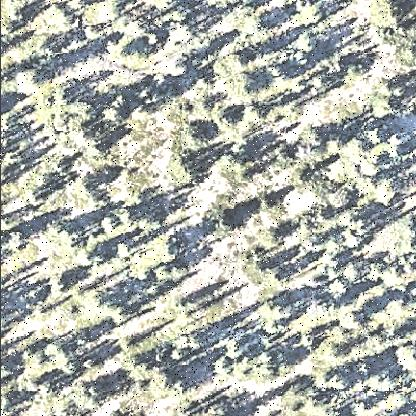tree-top: (179, 156, 241, 190), (53, 86, 95, 128), (291, 124, 329, 166), (117, 42, 156, 78), (380, 296, 416, 332), (72, 379, 107, 415), (255, 297, 294, 329), (208, 207, 242, 241), (249, 350, 282, 385), (217, 154, 251, 185), (42, 7, 77, 37), (370, 1, 407, 29), (169, 157, 201, 189), (68, 175, 100, 207), (244, 13, 276, 43), (372, 175, 402, 207), (159, 373, 189, 403), (324, 182, 354, 212), (325, 324, 356, 353), (34, 165, 58, 201), (257, 225, 287, 253), (180, 123, 210, 151), (294, 2, 326, 28), (135, 209, 167, 235), (15, 65, 44, 93), (371, 94, 399, 122), (234, 72, 261, 101), (44, 340, 72, 367), (382, 265, 408, 292), (215, 111, 241, 137), (164, 260, 192, 284), (118, 353, 148, 375), (325, 280, 352, 304), (327, 369, 353, 393), (293, 31, 317, 56), (395, 344, 416, 372), (103, 104, 126, 128), (51, 274, 73, 299), (228, 49, 253, 71), (341, 264, 363, 288), (138, 84, 160, 104), (100, 215, 118, 237), (401, 42, 416, 68), (153, 1, 179, 15), (65, 1, 88, 15)
